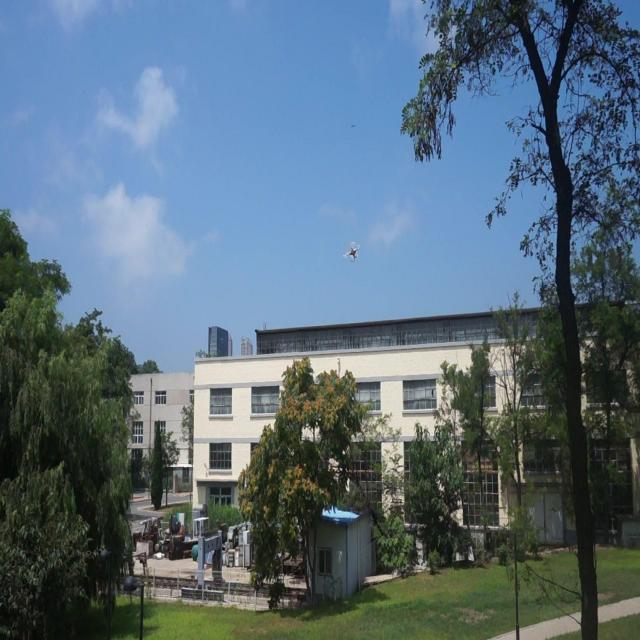UAV: (343, 241, 360, 262)
